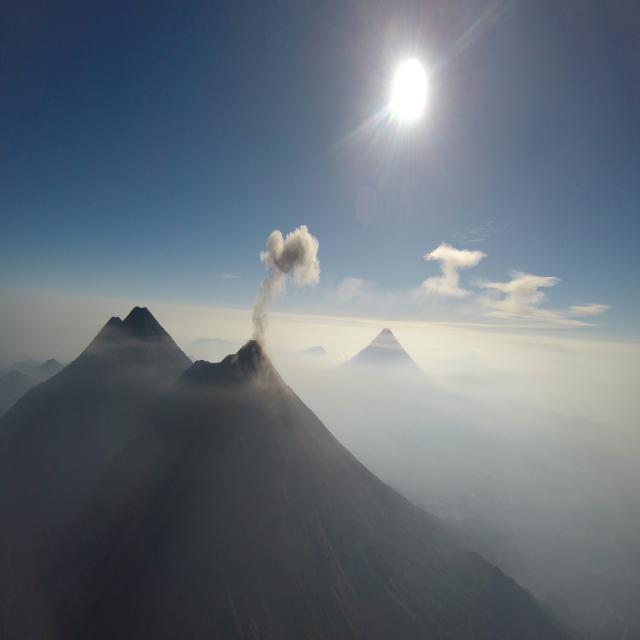Plume: (253, 220, 325, 346)
Summit: (192, 337, 282, 388)
